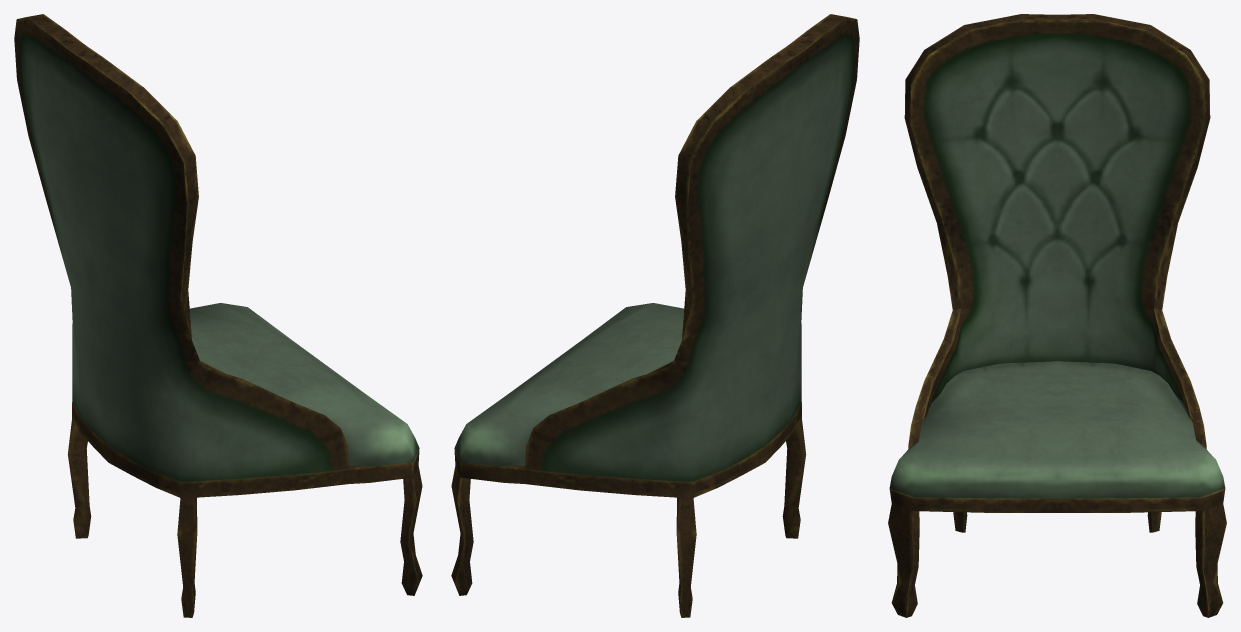
Rendered from Office Chair 1.fbx.
3 renders of one model, left to right at view 1: azimuth 30°, elevation 25°; view 2: azimuth 150°, elevation 25°; view 3: azimuth 270°, elevation 25°, orthographic. The views are drawn at different scales.
Visible parts, largest first — view 1: Office Chair 1; view 2: Office Chair 1; view 3: Office Chair 1.
Boxes of the visible parts, <box> form: Office Chair 1: <box>14,14,422,617</box>; Office Chair 1: <box>451,14,859,617</box>; Office Chair 1: <box>888,14,1226,617</box>.
Bounding box in the file's own units: 0.6731 × 1.29 × 0.8073.
Materials: 1 (1 with a texture image).
